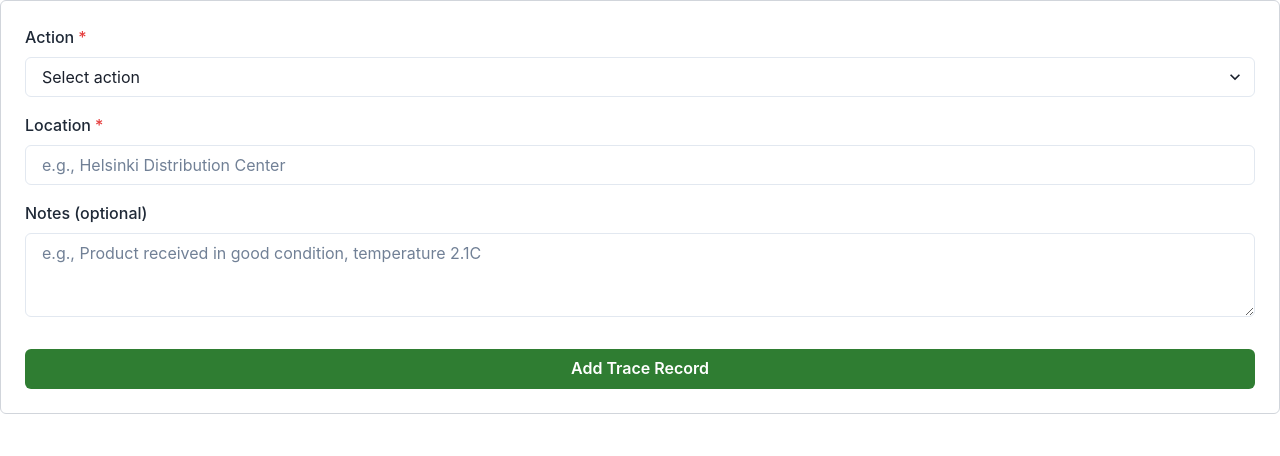
TraceRecordForm › Validation › should show error when action is not selected
Type "Test Location" into the field with placeholder "e.g., Helsinki Distribution Center" at (640, 165), box [25,145,1255,185]
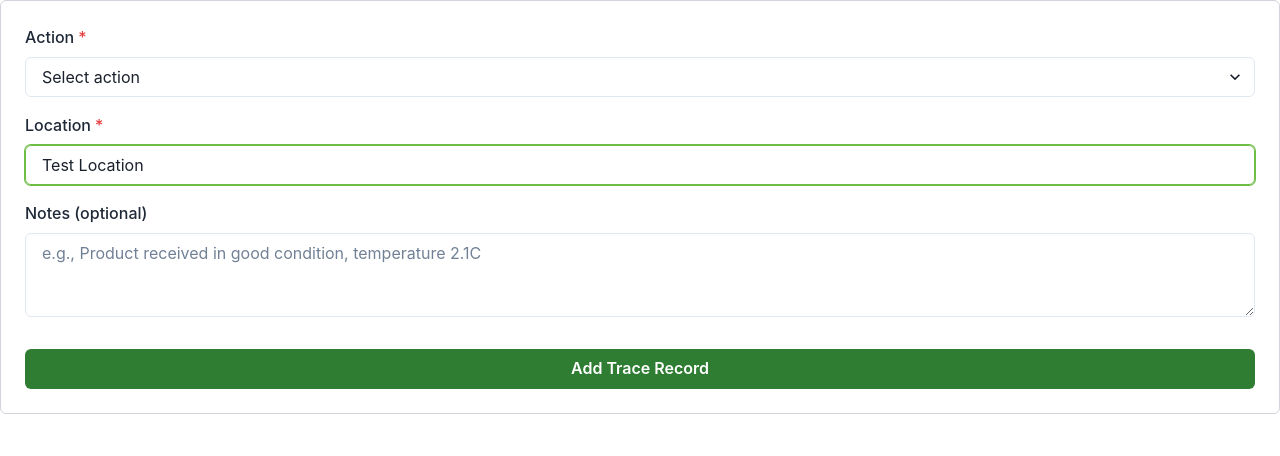
// Submit the form directly using fireEvent to bypass native validation
Submit the form
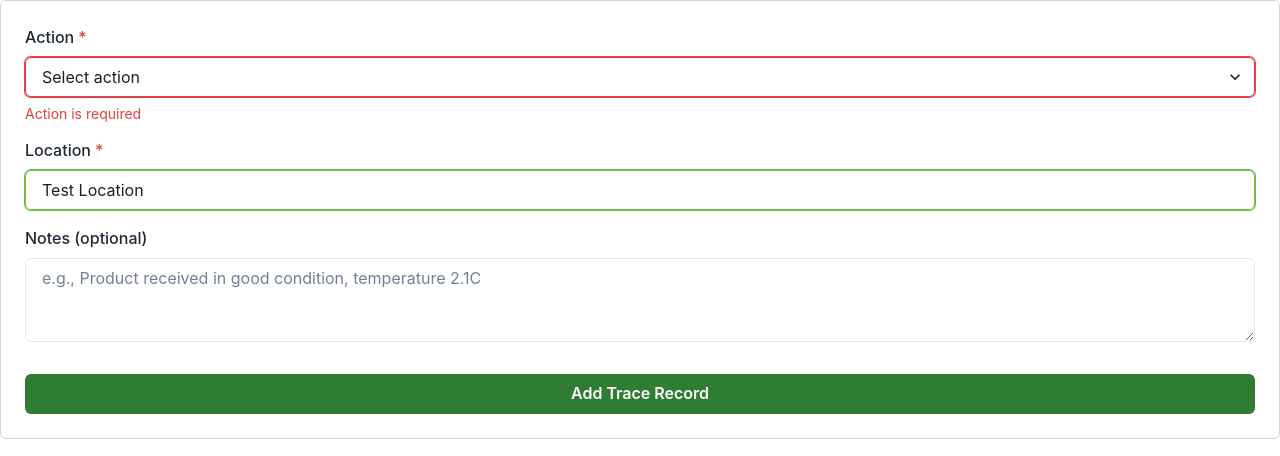
Now the text "Action is required" is shown, box [25,105,141,122]
